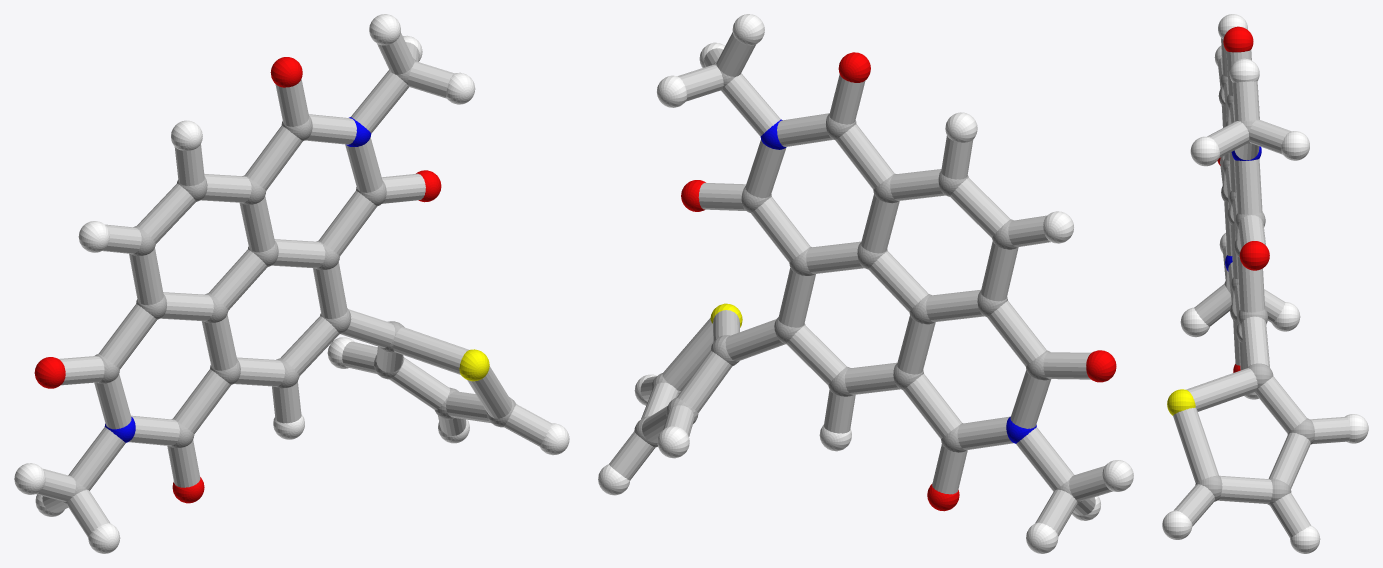
Rendered from Dimethyl_Naphthalene_Dicarboximide_Phi_20_Theta_250_Thiophene.glb.
3 renders of one model, left to right at view 1: azimuth 30°, elevation 25°; view 2: azimuth 150°, elevation 25°; view 3: azimuth 270°, elevation 25°, orthographic. The views are drawn at different scales.
Visible parts, largest first — view 1: grp14119, grp7241, grp1, grp12309, grp13757, grp11585; view 2: grp14119, grp7241, grp1, grp12309, grp11585; view 3: grp14119, grp7241, grp1, grp12309, grp13757.
Boxes of the visible parts, <box> form: grp14119: <box>36,32,551,537</box>; grp7241: <box>14,14,569,553</box>; grp1: <box>62,58,516,504</box>; grp12309: <box>34,57,441,503</box>; grp13757: <box>459,349,489,381</box>; grp11585: <box>104,117,371,442</box>; grp14119: <box>609,32,1112,536</box>; grp7241: <box>598,14,1133,553</box>; grp1: <box>634,61,1081,504</box>; grp12309: <box>681,52,1116,511</box>; grp11585: <box>760,119,1036,443</box>; grp14119: <box>1173,38,1350,537</box>; grp7241: <box>1162,14,1368,553</box>; grp1: <box>1195,74,1314,505</box>; grp12309: <box>1217,26,1269,372</box>; grp13757: <box>1167,389,1195,415</box>.
Bounding box in the file's own units: 11.26 × 9.82 × 4.11.
